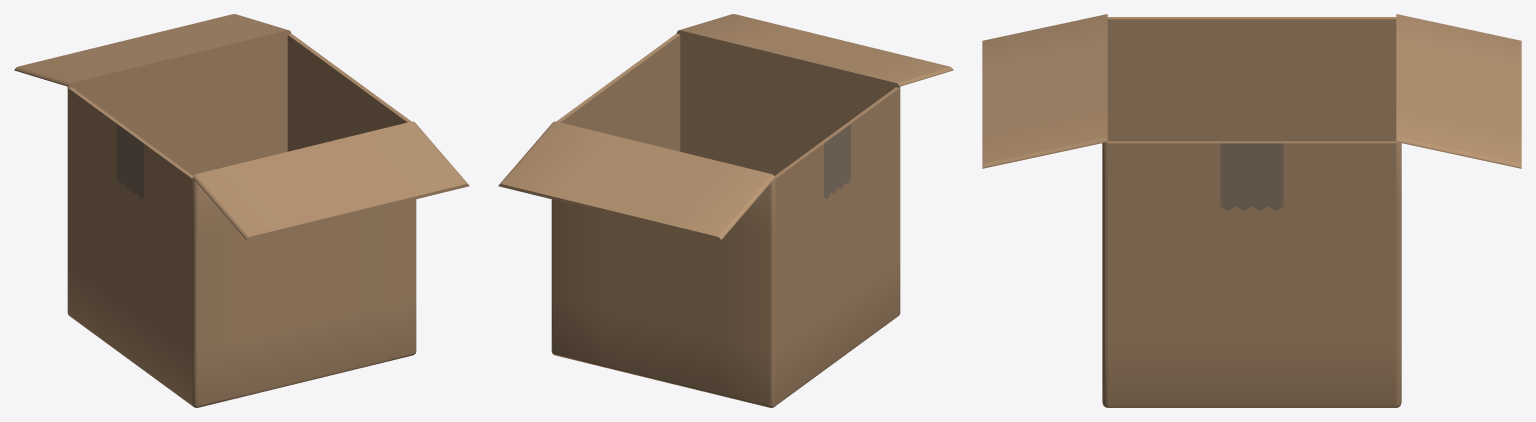
File: Open Box.fbx
3 renders of one model, left to right at view 1: azimuth 30°, elevation 25°; view 2: azimuth 150°, elevation 25°; view 3: azimuth 270°, elevation 25°, orthographic. The views are drawn at different scales.
Parts seen in each view (by area): view 1: Cube; view 2: Cube; view 3: Cube.
Part boxes in pixels (bbox=[...]): Cube: bbox=[14, 14, 469, 407]; Cube: bbox=[498, 14, 953, 407]; Cube: bbox=[982, 14, 1521, 407].
Bounding box in the file's own units: 200 × 200 × 361.
